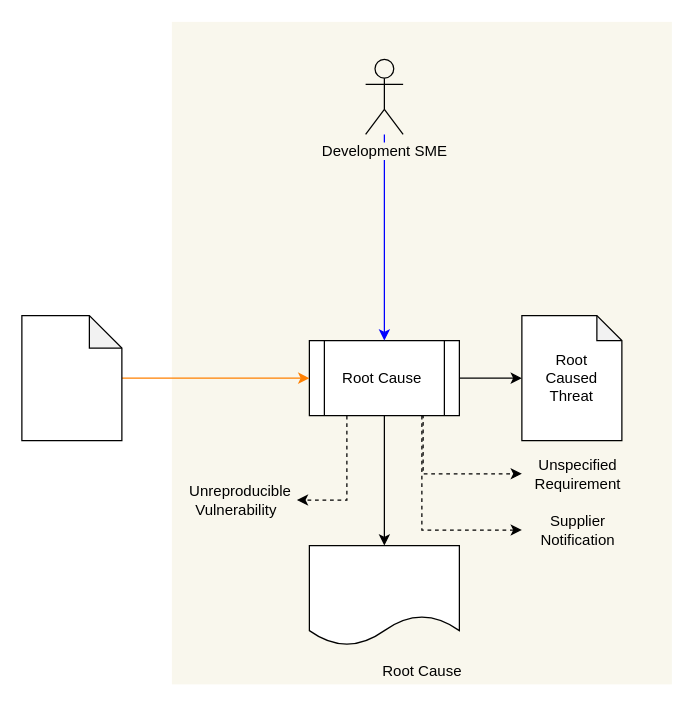
The diagram is 694 pixels wide and 705 high, and some of its shapes have lost their labels. Here are the shapes that lost their labels. From the top down, the centre of each, then its label:
At point 71,377: "Uncontrolled Threat".
At point 383,595: "Root Cause Report".
